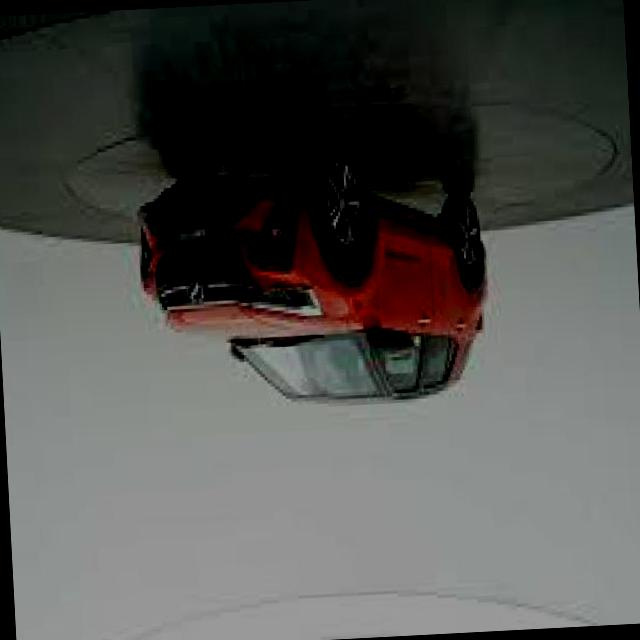PeroduaAtiva: (133, 140, 496, 418)
